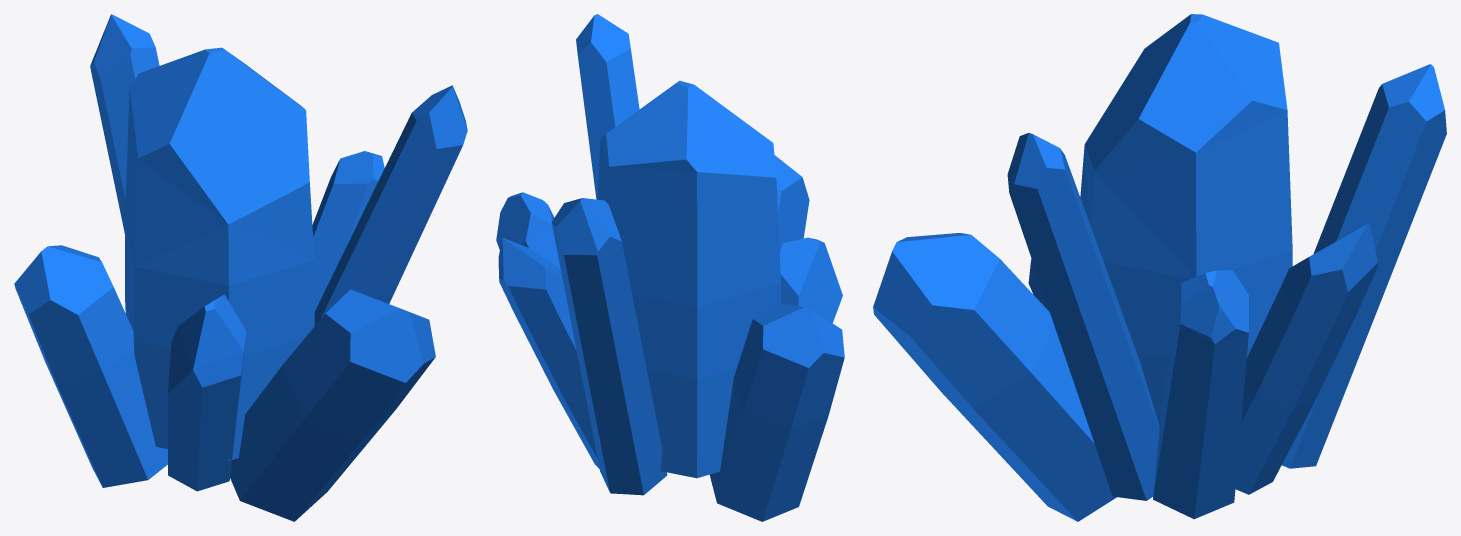
The model's file is Crystal_2.FBX.
3 views of the same model, side by side, from view 1: azimuth 30°, elevation 25°; view 2: azimuth 150°, elevation 25°; view 3: azimuth 270°, elevation 25° (orthographic). The views are drawn at different scales.
Visible parts, largest first — view 1: Crystals_l_01; view 2: Crystals_l_01; view 3: Crystals_l_01.
Boxes of the visible parts, bbox=[...] form: Crystals_l_01: bbox=[14, 14, 467, 521]; Crystals_l_01: bbox=[496, 14, 844, 521]; Crystals_l_01: bbox=[873, 14, 1446, 521].
Bounding box in the file's own units: 3.59 × 4.11 × 4.44.
